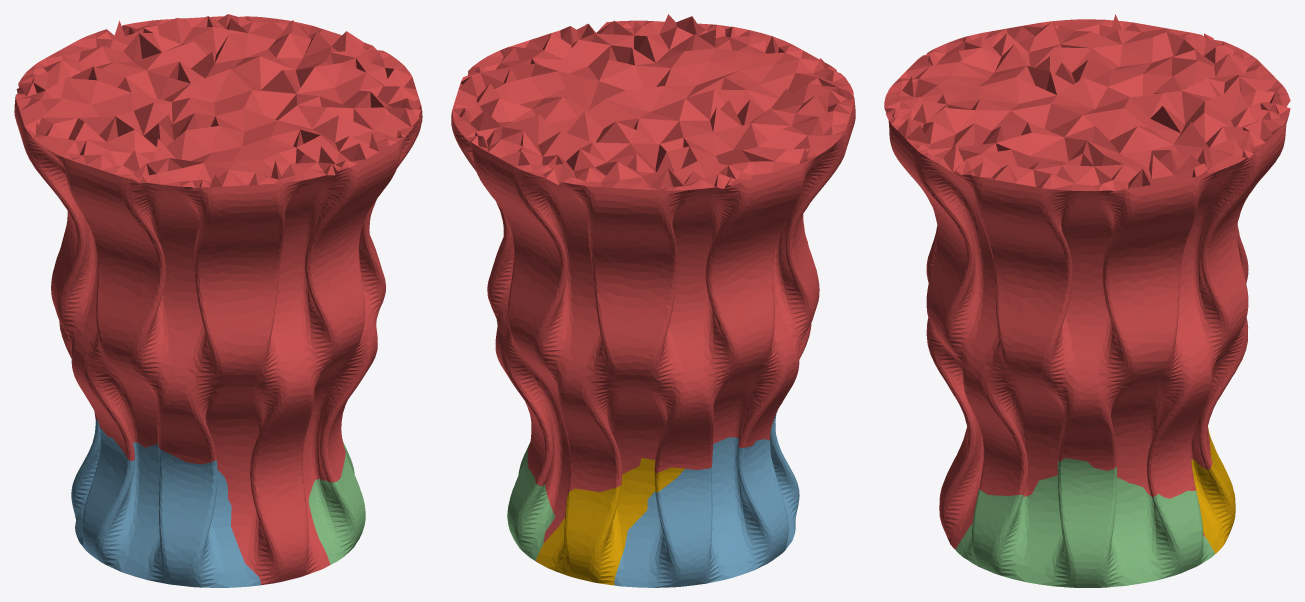
File: mode_6_4pcs.glb
3 views of the same model, side by side, from view 1: azimuth 30°, elevation 25°; view 2: azimuth 150°, elevation 25°; view 3: azimuth 270°, elevation 25° (orthographic).
Parts seen in each view (by area): view 1: piece_1.obj, piece_2.obj, piece_3.obj; view 2: piece_1.obj, piece_2.obj, piece_0.obj, piece_3.obj; view 3: piece_1.obj, piece_3.obj, piece_0.obj.
Part boxes in pixels (x1,y1,x2,y2): piece_1.obj: [14, 14, 422, 585]; piece_2.obj: [71, 419, 260, 587]; piece_3.obj: [308, 442, 365, 564]; piece_1.obj: [451, 14, 855, 542]; piece_2.obj: [614, 414, 799, 587]; piece_0.obj: [535, 458, 684, 585]; piece_3.obj: [507, 442, 555, 560]; piece_1.obj: [884, 14, 1290, 549]; piece_3.obj: [955, 458, 1214, 587]; piece_0.obj: [1191, 427, 1235, 553].
Size of the model in its own units: 0.842 by 1 by 0.842.
